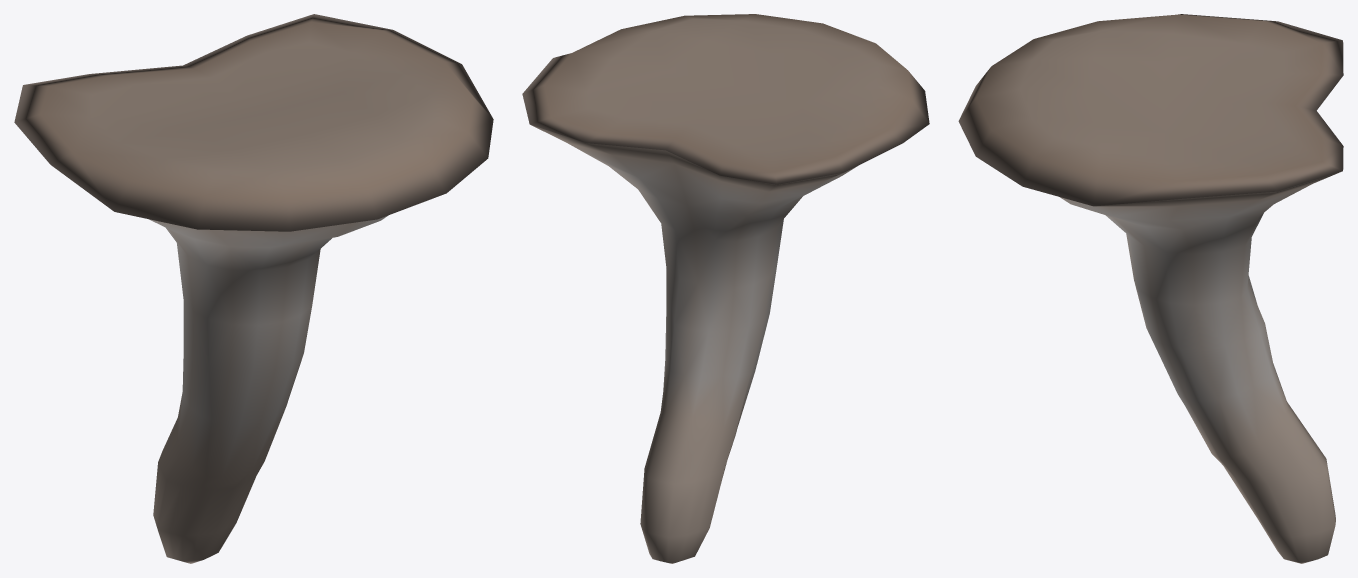
The model's file is plants-mushrooms-funnel-mushroom_v2.glb.
The picture shows the model from 3 angles, left to right: view 1: azimuth 30°, elevation 25°; view 2: azimuth 150°, elevation 25°; view 3: azimuth 270°, elevation 25°; orthographic projection. The views are drawn at different scales.
Visible parts, largest first — view 1: Funnel Mushroom_v2; view 2: Funnel Mushroom_v2; view 3: Funnel Mushroom_v2.
Boxes of the visible parts, bbox=[...] form: Funnel Mushroom_v2: bbox=[14, 14, 493, 563]; Funnel Mushroom_v2: bbox=[522, 14, 929, 563]; Funnel Mushroom_v2: bbox=[958, 14, 1343, 563].
Size of the model in its own units: 0.1 by 0.12 by 0.088.
